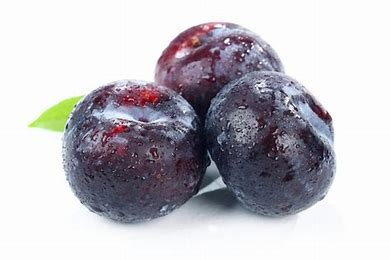plum_A: (62, 80, 206, 222)
plum_B: (203, 69, 336, 218)
